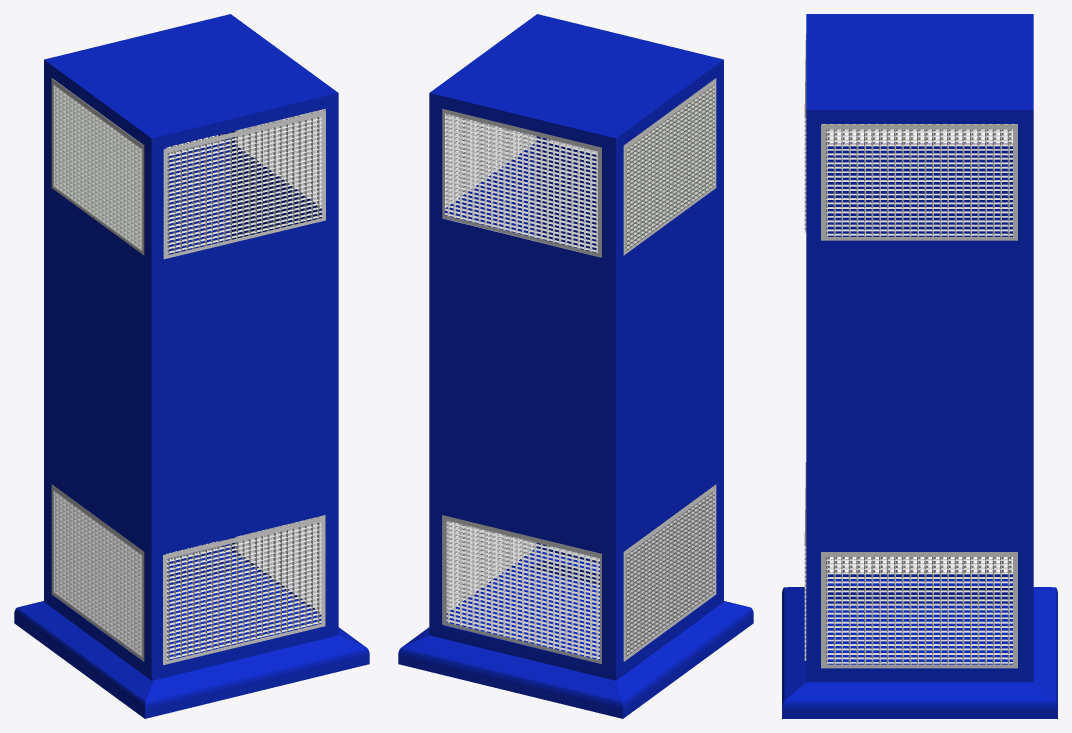
The model's file is Water Purifier Blue.glb.
3 renders of one model, left to right at view 1: azimuth 30°, elevation 25°; view 2: azimuth 150°, elevation 25°; view 3: azimuth 270°, elevation 25°, orthographic. The views are drawn at different scales.
Visible parts, largest first — view 1: Cube, Plane.007, Plane.022, Plane.001, Plane.006, Plane.008, Plane.023, Plane.012, Plane.003, Plane.005, Plane.002; view 2: Cube, Plane.021, Plane.025, Plane.001, Plane.006, Plane.012, Plane.010, Plane.024, Plane.003, Plane.005, Plane.002; view 3: Cube, Plane.012, Plane.003, Plane.004, Plane.011, Plane.001, Plane.006, Plane.007, Plane.022.
Boxes of the visible parts, bbox=[...] form: Cube: bbox=[14, 14, 369, 718]; Plane.007: bbox=[167, 515, 325, 660]; Plane.022: bbox=[167, 109, 325, 254]; Plane.001: bbox=[52, 78, 144, 250]; Plane.006: bbox=[52, 484, 142, 656]; Plane.008: bbox=[163, 516, 325, 665]; Plane.023: bbox=[163, 110, 325, 259]; Plane.012: bbox=[235, 108, 325, 206]; Plane.003: bbox=[235, 515, 325, 612]; Plane.005: bbox=[51, 484, 144, 661]; Plane.002: bbox=[51, 78, 144, 255]; Cube: bbox=[398, 14, 753, 718]; Plane.021: bbox=[442, 515, 599, 659]; Plane.025: bbox=[443, 114, 597, 256]; Plane.001: bbox=[623, 78, 715, 250]; Plane.006: bbox=[625, 484, 715, 656]; Plane.012: bbox=[445, 113, 534, 207]; Plane.010: bbox=[442, 515, 601, 663]; Plane.024: bbox=[442, 108, 601, 257]; Plane.003: bbox=[446, 520, 534, 610]; Plane.005: bbox=[623, 484, 716, 661]; Plane.002: bbox=[623, 78, 716, 255]; Cube: bbox=[782, 14, 1057, 718]; Plane.012: bbox=[826, 124, 1015, 236]; Plane.003: bbox=[826, 557, 1012, 664]; Plane.004: bbox=[821, 552, 1017, 668]; Plane.011: bbox=[821, 124, 1017, 240]; Plane.001: bbox=[828, 124, 1017, 144]; Plane.006: bbox=[828, 557, 1012, 572]; Plane.007: bbox=[804, 462, 806, 660]; Plane.022: bbox=[804, 34, 806, 232].
Size of what is drawn, in the model's own units: 1.2 by 2.89 by 1.21.
